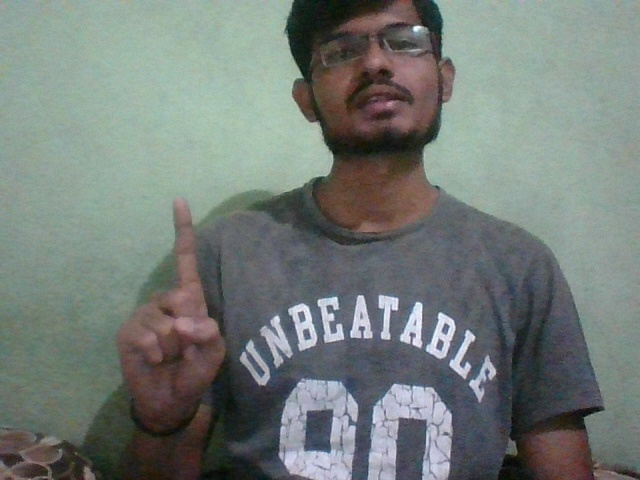where: (83, 190, 254, 404)
